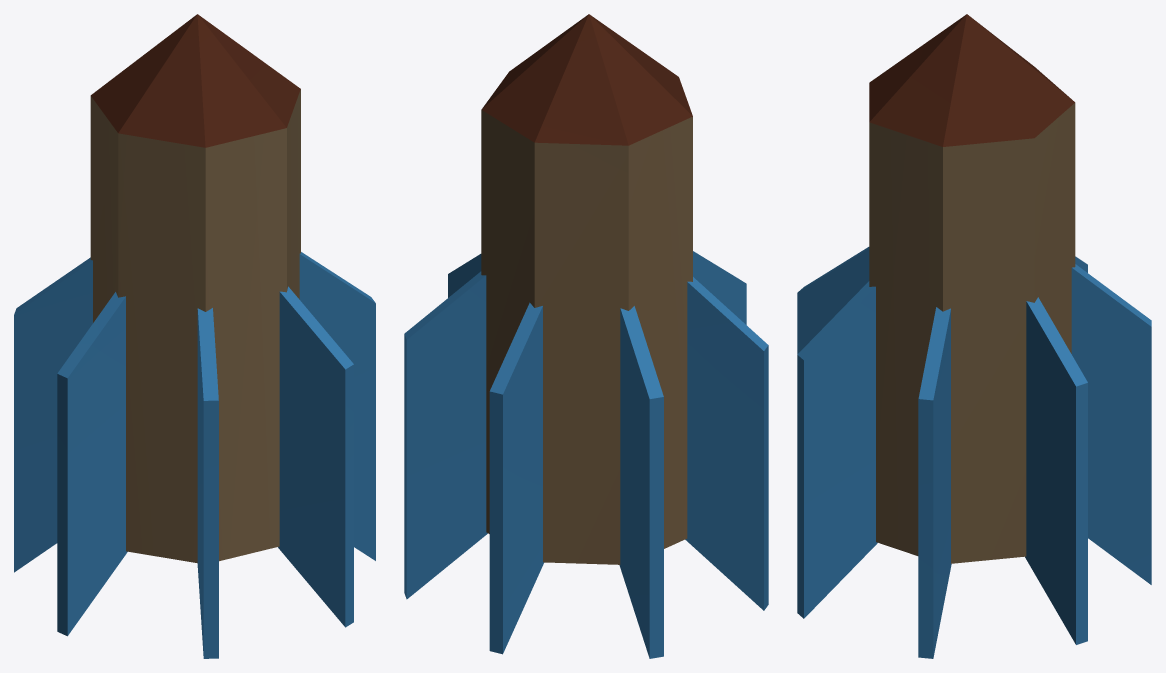
File: Leveler projectile.fbx
3 renders of one model, left to right at view 1: azimuth 30°, elevation 25°; view 2: azimuth 150°, elevation 25°; view 3: azimuth 270°, elevation 25°, orthographic.
Parts seen in each view (by area): view 1: cone_selection; view 2: cone_selection; view 3: cone_selection.
Part boxes in pixels (bbox=[...]): cone_selection: bbox=[14, 14, 375, 658]; cone_selection: bbox=[404, 14, 768, 658]; cone_selection: bbox=[797, 14, 1151, 658].
Size of the model in its own units: 18.61 by 32.11 by 18.14.
Materials: 3 (3 with a texture image).
